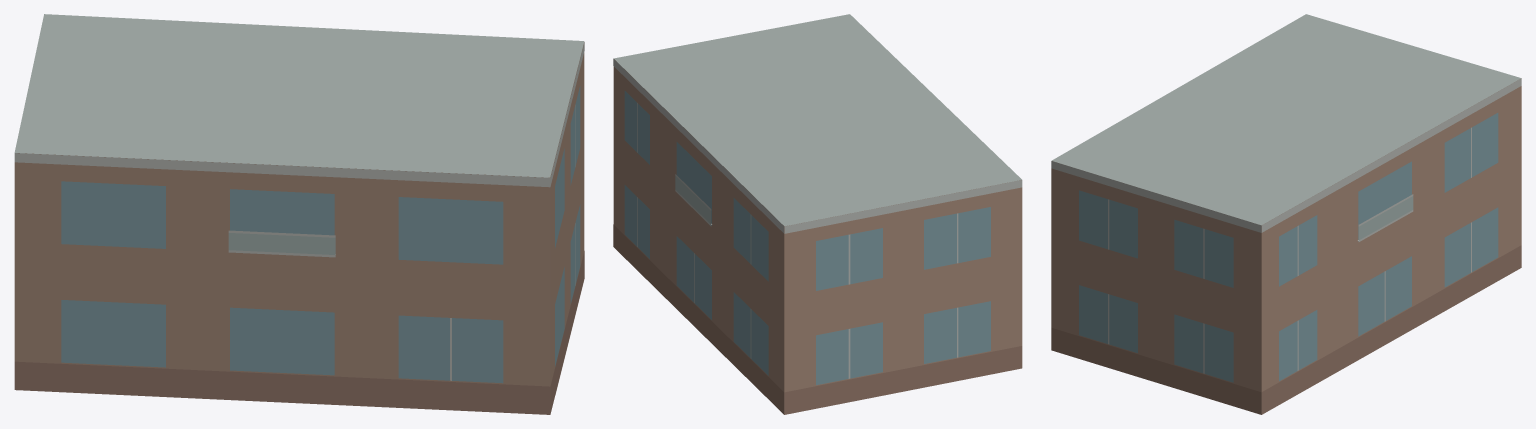
Rendered from survey-upis-32651993.glb.
3 renders of one model, left to right at view 1: azimuth 30°, elevation 25°; view 2: azimuth 150°, elevation 25°; view 3: azimuth 270°, elevation 25°, orthographic. The views are drawn at different scales.
Parts seen in each view (by area): view 1: survey-upis-32651993.tmp; view 2: survey-upis-32651993.tmp; view 3: survey-upis-32651993.tmp.
Part boxes in pixels (x1,y1,x2,y2): survey-upis-32651993.tmp: [14, 14, 584, 414]; survey-upis-32651993.tmp: [613, 14, 1022, 414]; survey-upis-32651993.tmp: [1051, 14, 1521, 414].
Size of the model in its own units: 14.6 by 6.1 by 13.73.
